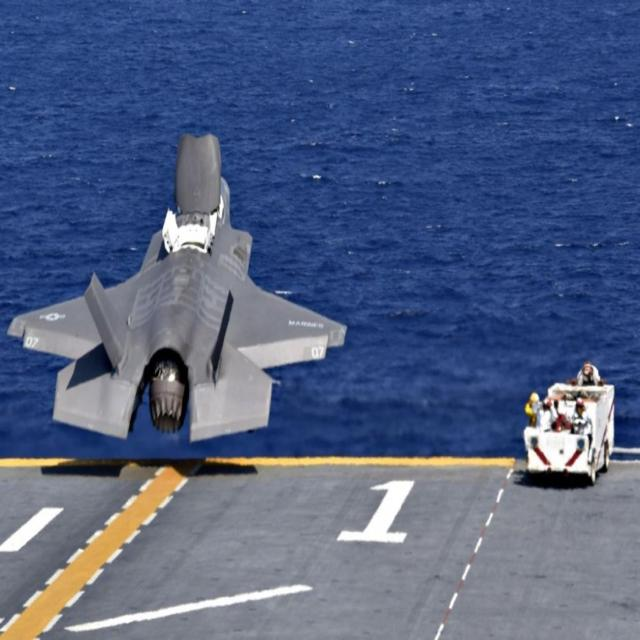MIL_Plane: (7, 134, 348, 444)
